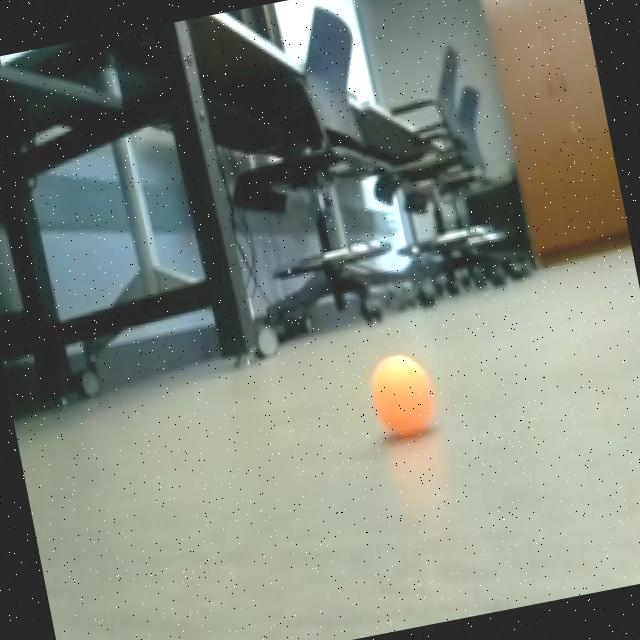ping-pong-ball: (360, 347, 446, 448)
